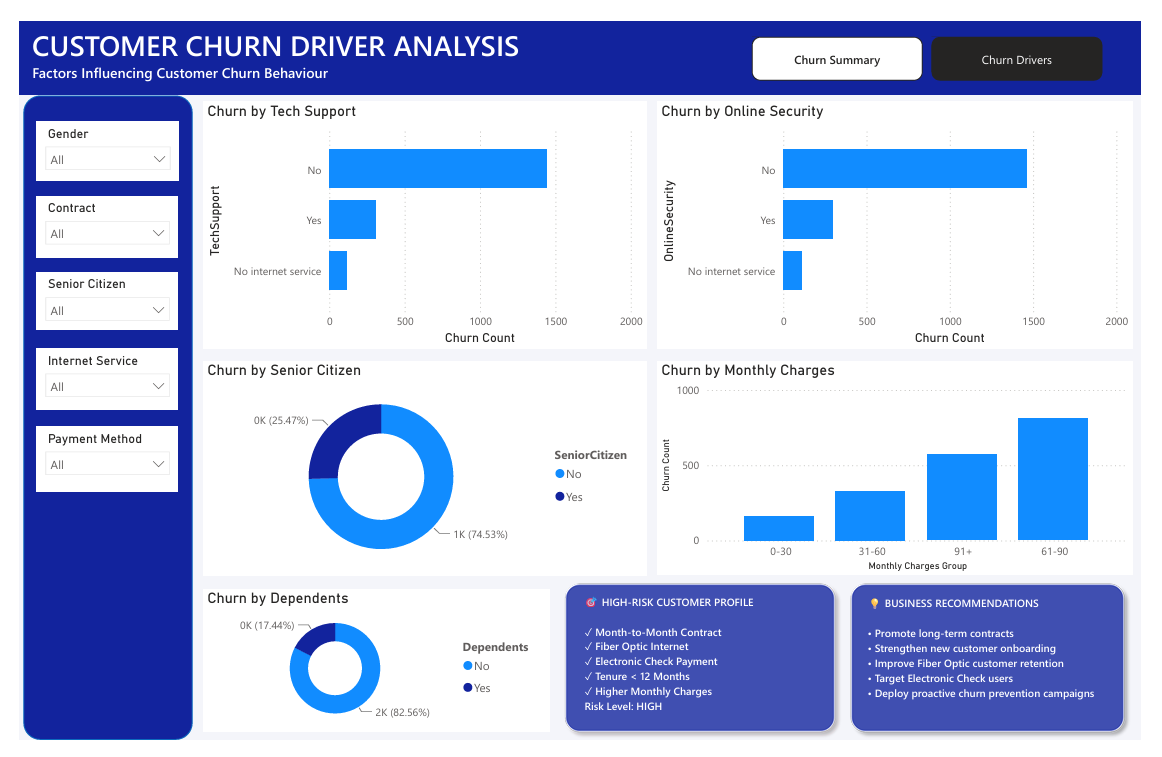

Layout of this report page (visuals, bound fields, positions):
{"tool":"powerbi","page":{"name":"Churn Drivers","canvas":[1280,820],"ordinal":1},"visuals":[{"type":"shape","box":[5,85,192.5,735],"z":0},{"type":"slicer","fields":{"Values":["Customer-Churn.gender"]},"box":[20,115,162.5,67.5],"z":1000},{"type":"slicer","fields":{"Values":["Customer-Churn.Contract"]},"box":[20,200,162.2,70],"z":2000},{"type":"slicer","fields":{"Values":["Customer-Churn.SeniorCitizen"]},"box":[20,286.7,162.2,66.7],"z":3000},{"type":"slicer","fields":{"Values":["Customer-Churn.InternetService"]},"box":[20,374.4,162.2,70],"z":4000},{"type":"shape","box":[0,0,1280,84],"z":5000},{"type":"textbox","box":[10,0,705,85],"z":6000},{"type":"pageNavigator","box":[836,18,400,50],"z":7000},{"type":"shape","box":[940,633.3,330,186.7],"z":8000},{"type":"textbox","box":[963.3,650,283.3,150],"z":9000},{"type":"slicer","fields":{"Values":["Customer-Churn.PaymentMethod"]},"box":[20,463.3,162.2,74.4],"z":10000},{"type":"clusteredBarChart","title":"Churn by Tech Support","fields":{"Category":["Customer-Churn.TechSupport"],"Y":["Customer-Churn.Churn Count"]},"box":[210,92,506,282],"z":11000},{"type":"clusteredBarChart","title":"Churn by Online Security","fields":{"Category":["Customer-Churn.OnlineSecurity"],"Y":["Customer-Churn.Churn Count"]},"box":[728,92,542,282],"z":12000},{"type":"donutChart","title":"Churn by Senior Citizen","fields":{"Category":["Customer-Churn.SeniorCitizen"],"Y":["Customer-Churn.Churn Count"]},"box":[210,387.5,506.2,245],"z":13000},{"type":"clusteredColumnChart","title":"Churn by Monthly Charges","fields":{"Category":["Customer-Churn.Monthly Charges Group"],"Y":["Customer-Churn.Churn Count"]},"box":[728,388,542,244],"z":14000},{"type":"shape","box":[613.8,632.5,326.2,187.5],"z":15000},{"type":"textbox","box":[640,648,272,172],"z":16000},{"type":"donutChart","title":"Churn by Dependents","fields":{"Category":["Customer-Churn.Dependents"],"Y":["Customer-Churn.Churn Count"]},"box":[210,647.5,395,162.5],"z":17000}]}

Visuals, with their boxes in screenshot pixels (x1, y1, x2, y2), scaled from the page's 1280x820 canvas onto the 1162x757 screenshot:
shape: box(5, 78, 179, 756)
slicer - Customer-Churn.gender: box(18, 106, 166, 168)
slicer - Customer-Churn.Contract: box(18, 185, 165, 249)
slicer - Customer-Churn.SeniorCitizen: box(18, 265, 165, 326)
slicer - Customer-Churn.InternetService: box(18, 346, 165, 410)
shape: box(0, 0, 1161, 78)
textbox: box(9, 0, 649, 78)
pageNavigator: box(759, 17, 1122, 63)
shape: box(853, 585, 1153, 756)
textbox: box(874, 600, 1132, 739)
slicer - Customer-Churn.PaymentMethod: box(18, 428, 165, 496)
"Churn by Tech Support" clusteredBarChart: box(191, 85, 650, 345)
"Churn by Online Security" clusteredBarChart: box(661, 85, 1153, 345)
"Churn by Senior Citizen" donutChart: box(191, 358, 650, 584)
"Churn by Monthly Charges" clusteredColumnChart: box(661, 358, 1153, 583)
shape: box(557, 584, 853, 756)
textbox: box(581, 598, 828, 756)
"Churn by Dependents" donutChart: box(191, 598, 549, 748)
